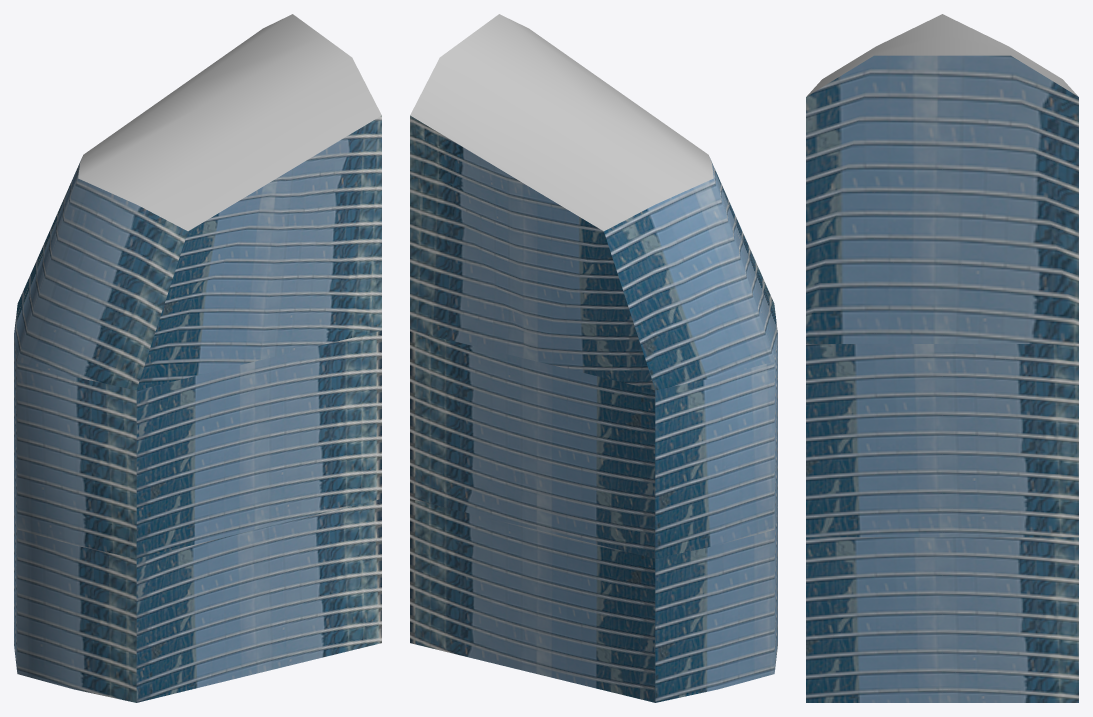
File: Background_Asset_003.fbx
3 views of the same model, side by side, from view 1: azimuth 30°, elevation 25°; view 2: azimuth 150°, elevation 25°; view 3: azimuth 270°, elevation 25° (orthographic). The views are drawn at different scales.
Visible parts, largest first — view 1: Background_Asset_003; view 2: Background_Asset_003; view 3: Background_Asset_003.
Part boxes in pixels (x1=…): Background_Asset_003: x1=14, y1=14, x2=381, y2=702; Background_Asset_003: x1=410, y1=14, x2=777, y2=702; Background_Asset_003: x1=806, y1=14, x2=1078, y2=702.
Size of the model in its own units: 1398 by 2469 by 943.
